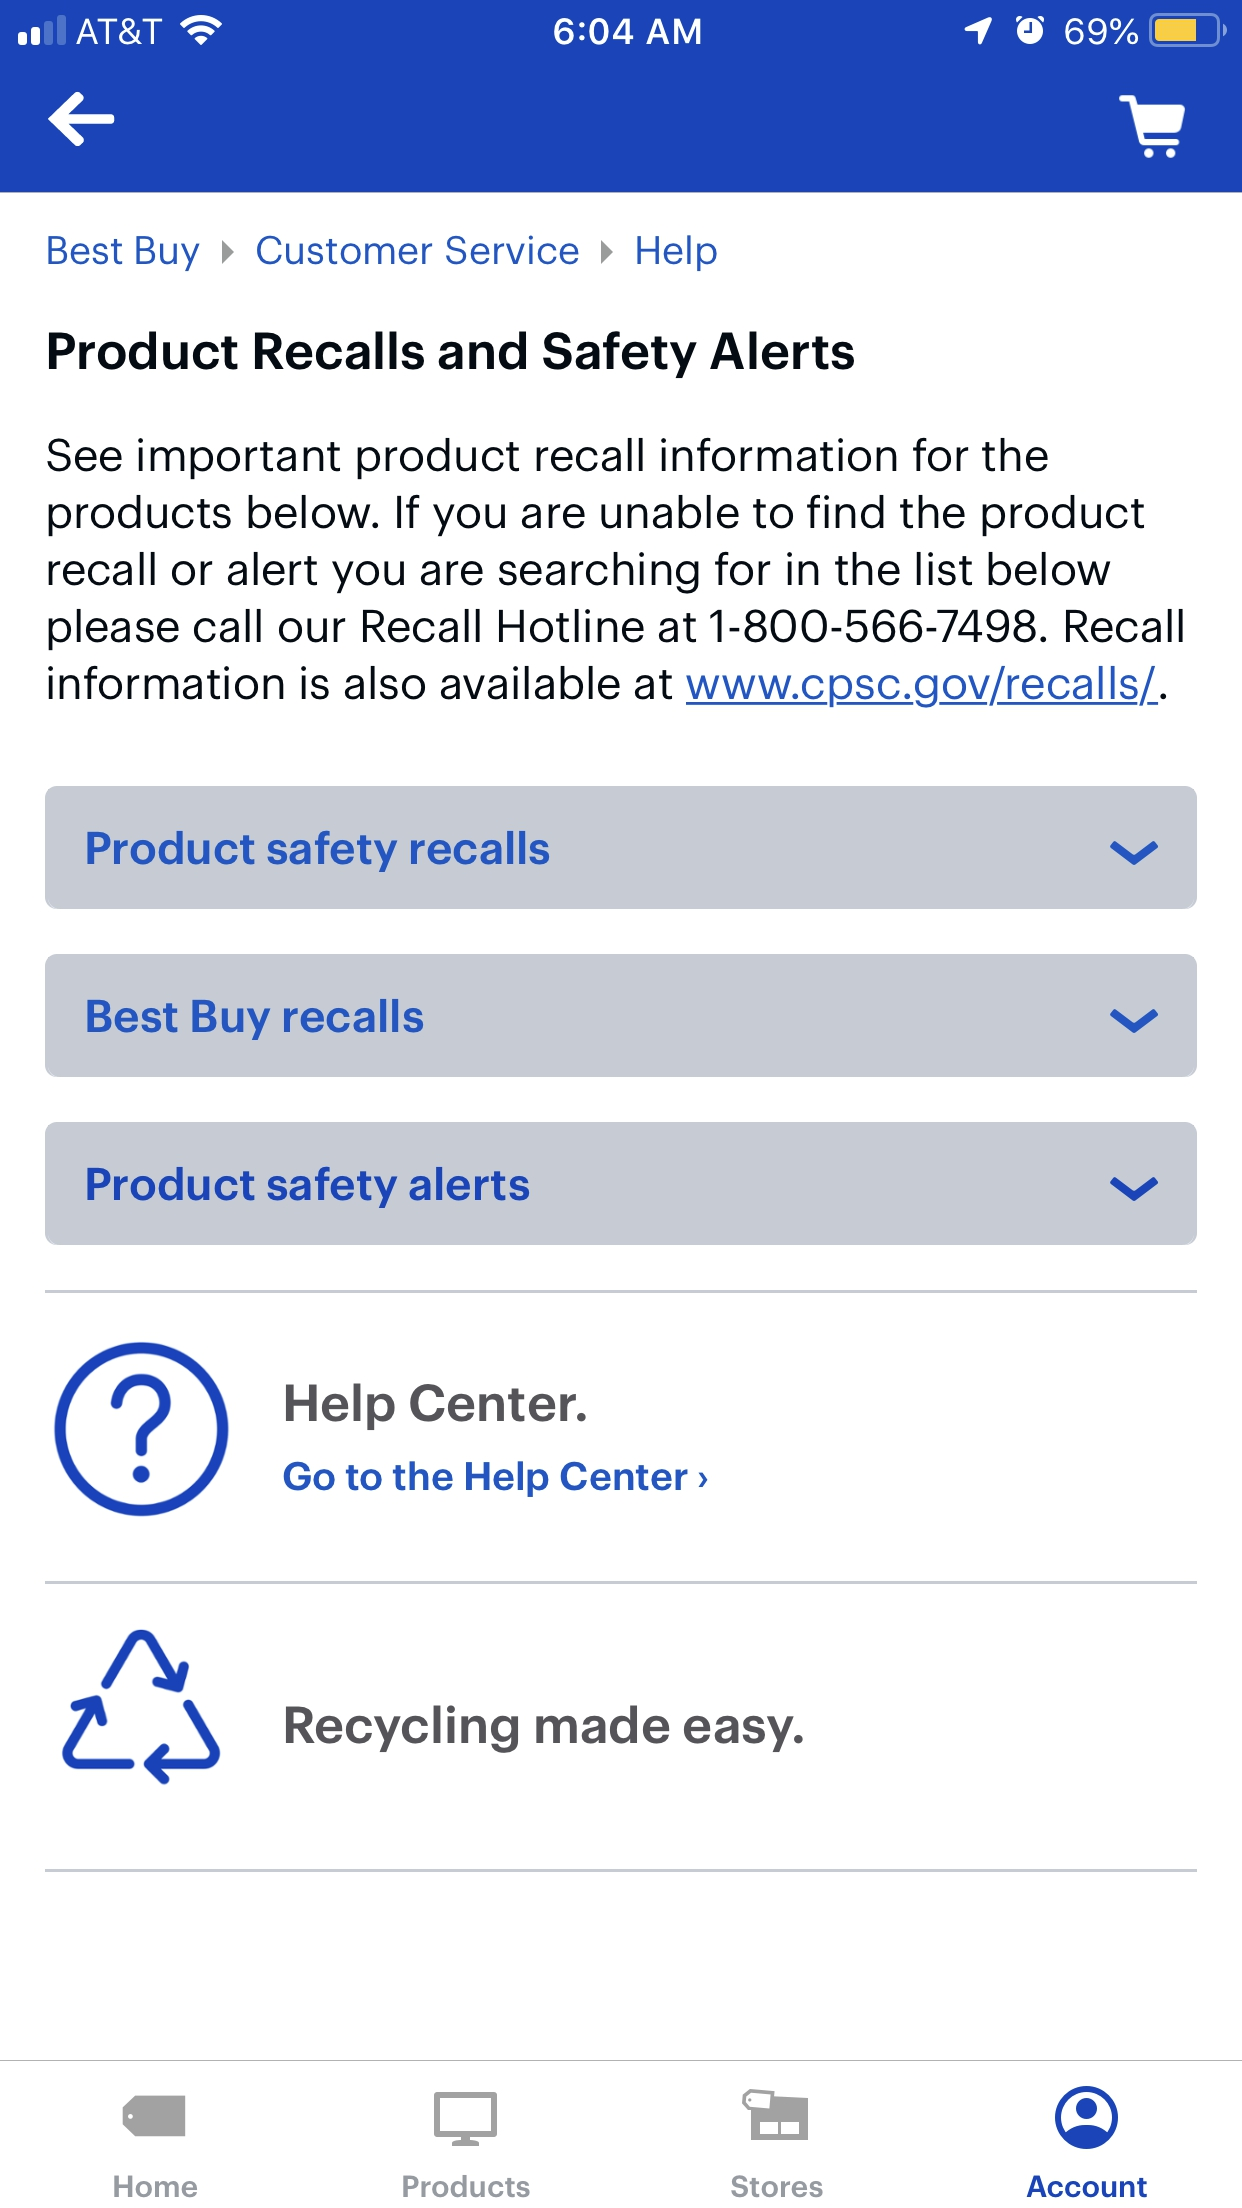Icon: (55, 1342, 231, 1518), (1118, 96, 1186, 161), (1055, 2087, 1119, 2150), (49, 93, 115, 149), (123, 2094, 187, 2137), (1109, 1177, 1159, 1203), (1109, 1008, 1159, 1034), (1110, 842, 1159, 867), (601, 240, 614, 265), (223, 240, 237, 265), (699, 1473, 710, 1488)
Image: (61, 1629, 221, 1786), (434, 2093, 497, 2147), (742, 2088, 808, 2140)
Text: (47, 438, 1184, 710), (49, 331, 855, 381), (287, 1705, 804, 1755), (86, 830, 550, 873), (88, 1166, 531, 1209), (284, 1460, 690, 1498), (287, 1382, 587, 1432), (88, 998, 425, 1040), (49, 237, 202, 273), (258, 237, 434, 265), (446, 237, 579, 267), (637, 235, 717, 273), (403, 2175, 531, 2197), (1027, 2175, 1148, 2197), (731, 2175, 823, 2197), (114, 2175, 199, 2197)
UpperTaskBar: (2, 2, 1242, 49)
